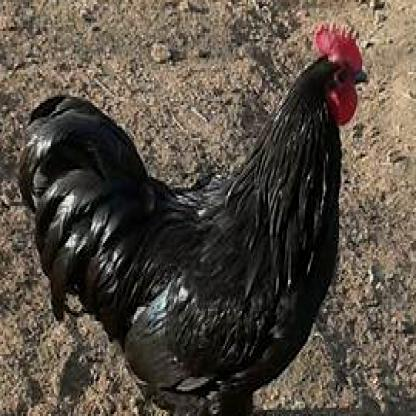chicken: (17, 23, 373, 414)
